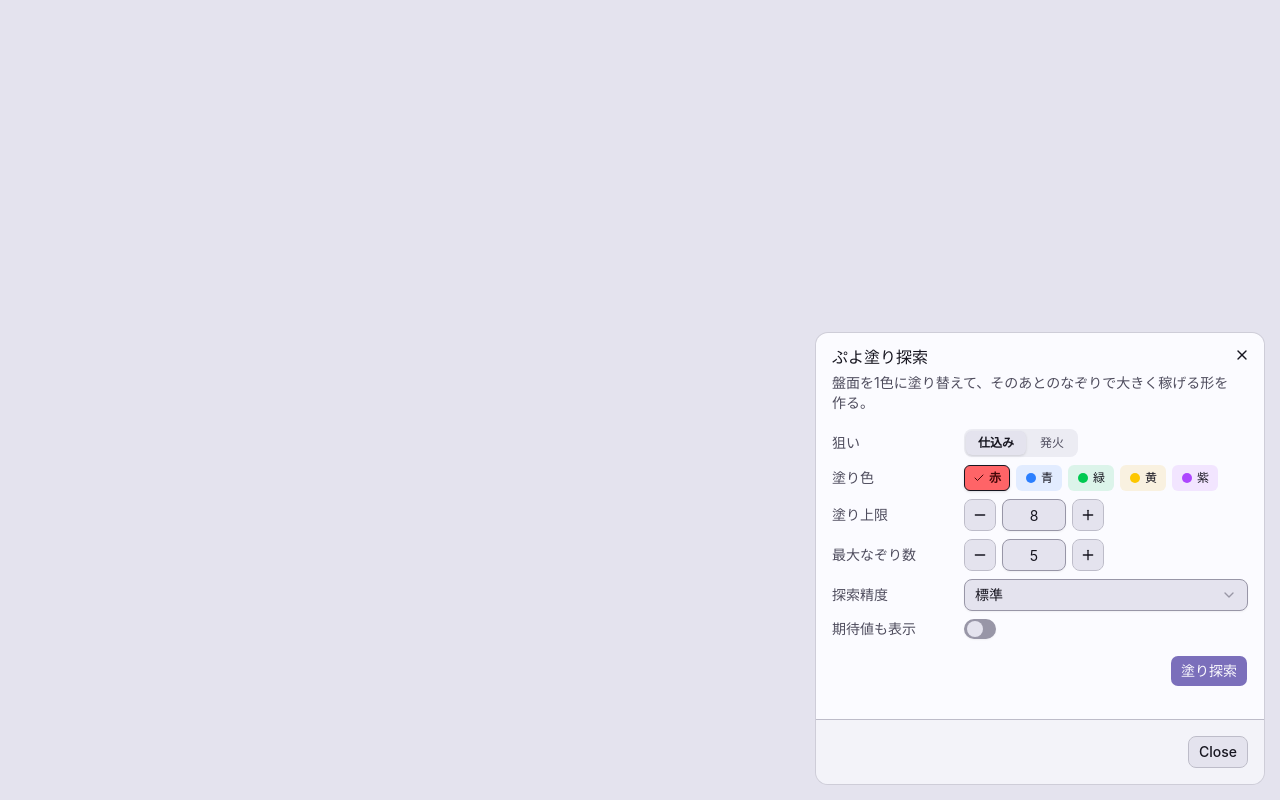
Scenario: PaintSearchDialog › offers the ultra precision on the rust backend
This screenshot has width=1280, height=800.
Click the dropdown named "探索精度の選択". click: (989, 594)
box: x1=964 y1=579 x2=1248 y2=611
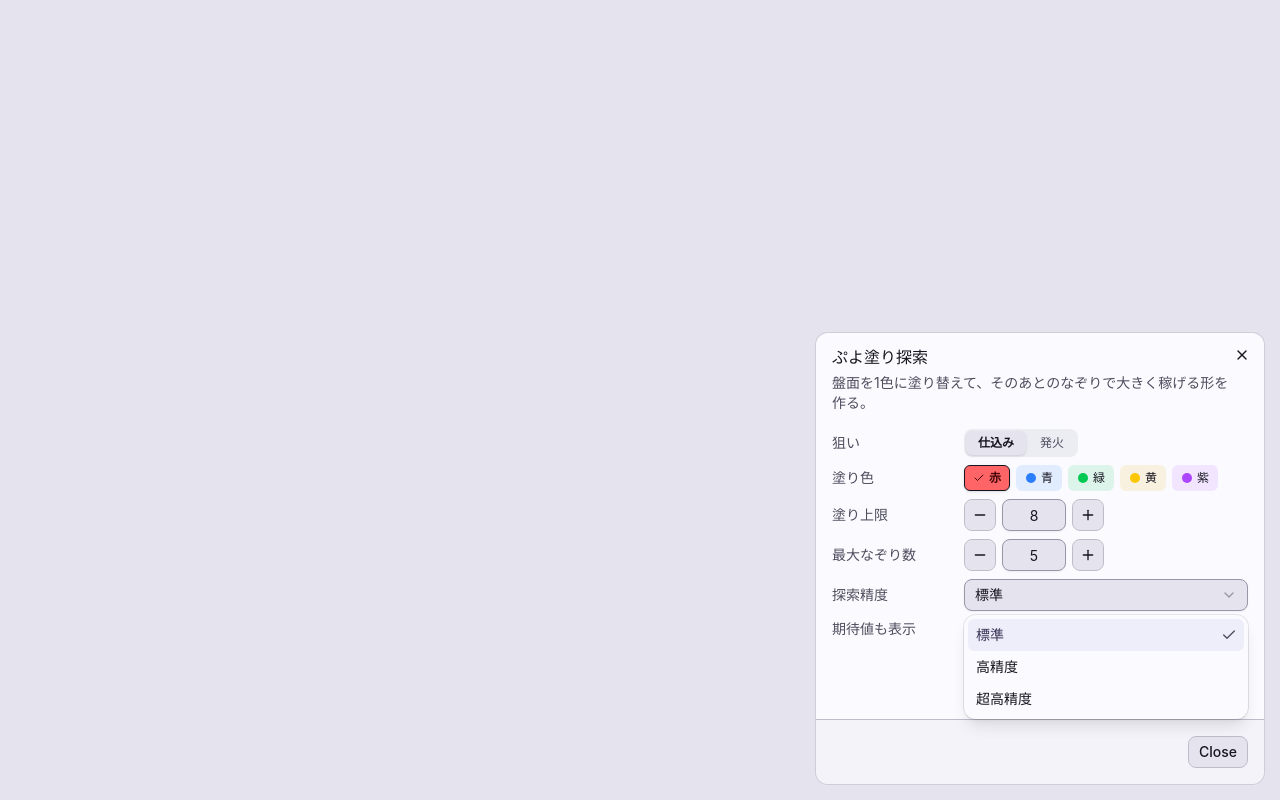
Now the option "超高精度" is shown, box x1=976 y1=690 x2=1032 y2=707
